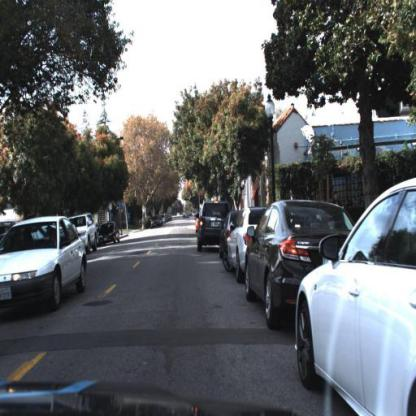car: (296, 181, 416, 416), (242, 192, 361, 332), (1, 218, 90, 312), (221, 204, 270, 281), (196, 200, 234, 255), (65, 211, 101, 258), (97, 217, 122, 247), (156, 218, 168, 233)
pedestrian: (97, 218, 102, 246)
